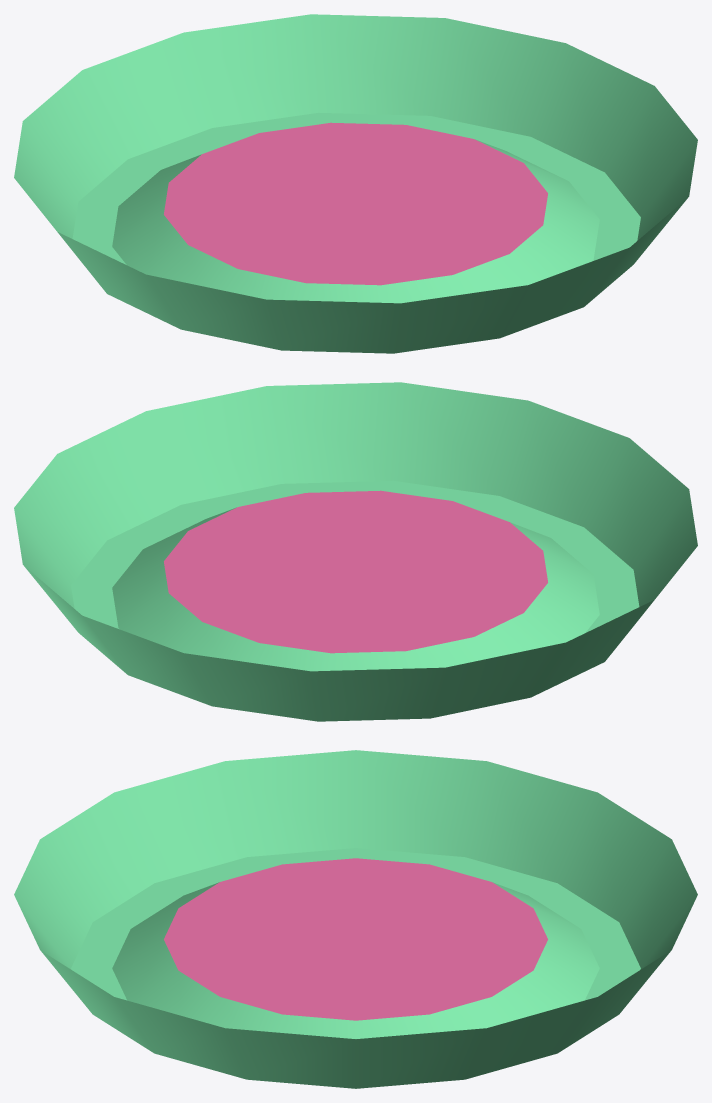
Rendered from Light_Ceiling.fbx.
The picture shows the model from 3 angles, top to bottom: view 1: azimuth 30°, elevation 25°; view 2: azimuth 150°, elevation 25°; view 3: azimuth 270°, elevation 25°; orthographic projection.
Parts seen in each view (by area): view 1: Light_Ceiling; view 2: Light_Ceiling; view 3: Light_Ceiling.
Boxes of the visible parts, x1,y1,x2,y2 form: Light_Ceiling: [14, 14, 697, 353]; Light_Ceiling: [14, 382, 697, 721]; Light_Ceiling: [14, 750, 697, 1088].
Size of the model in its own units: 0.9938 by 0.1183 by 0.9938.
